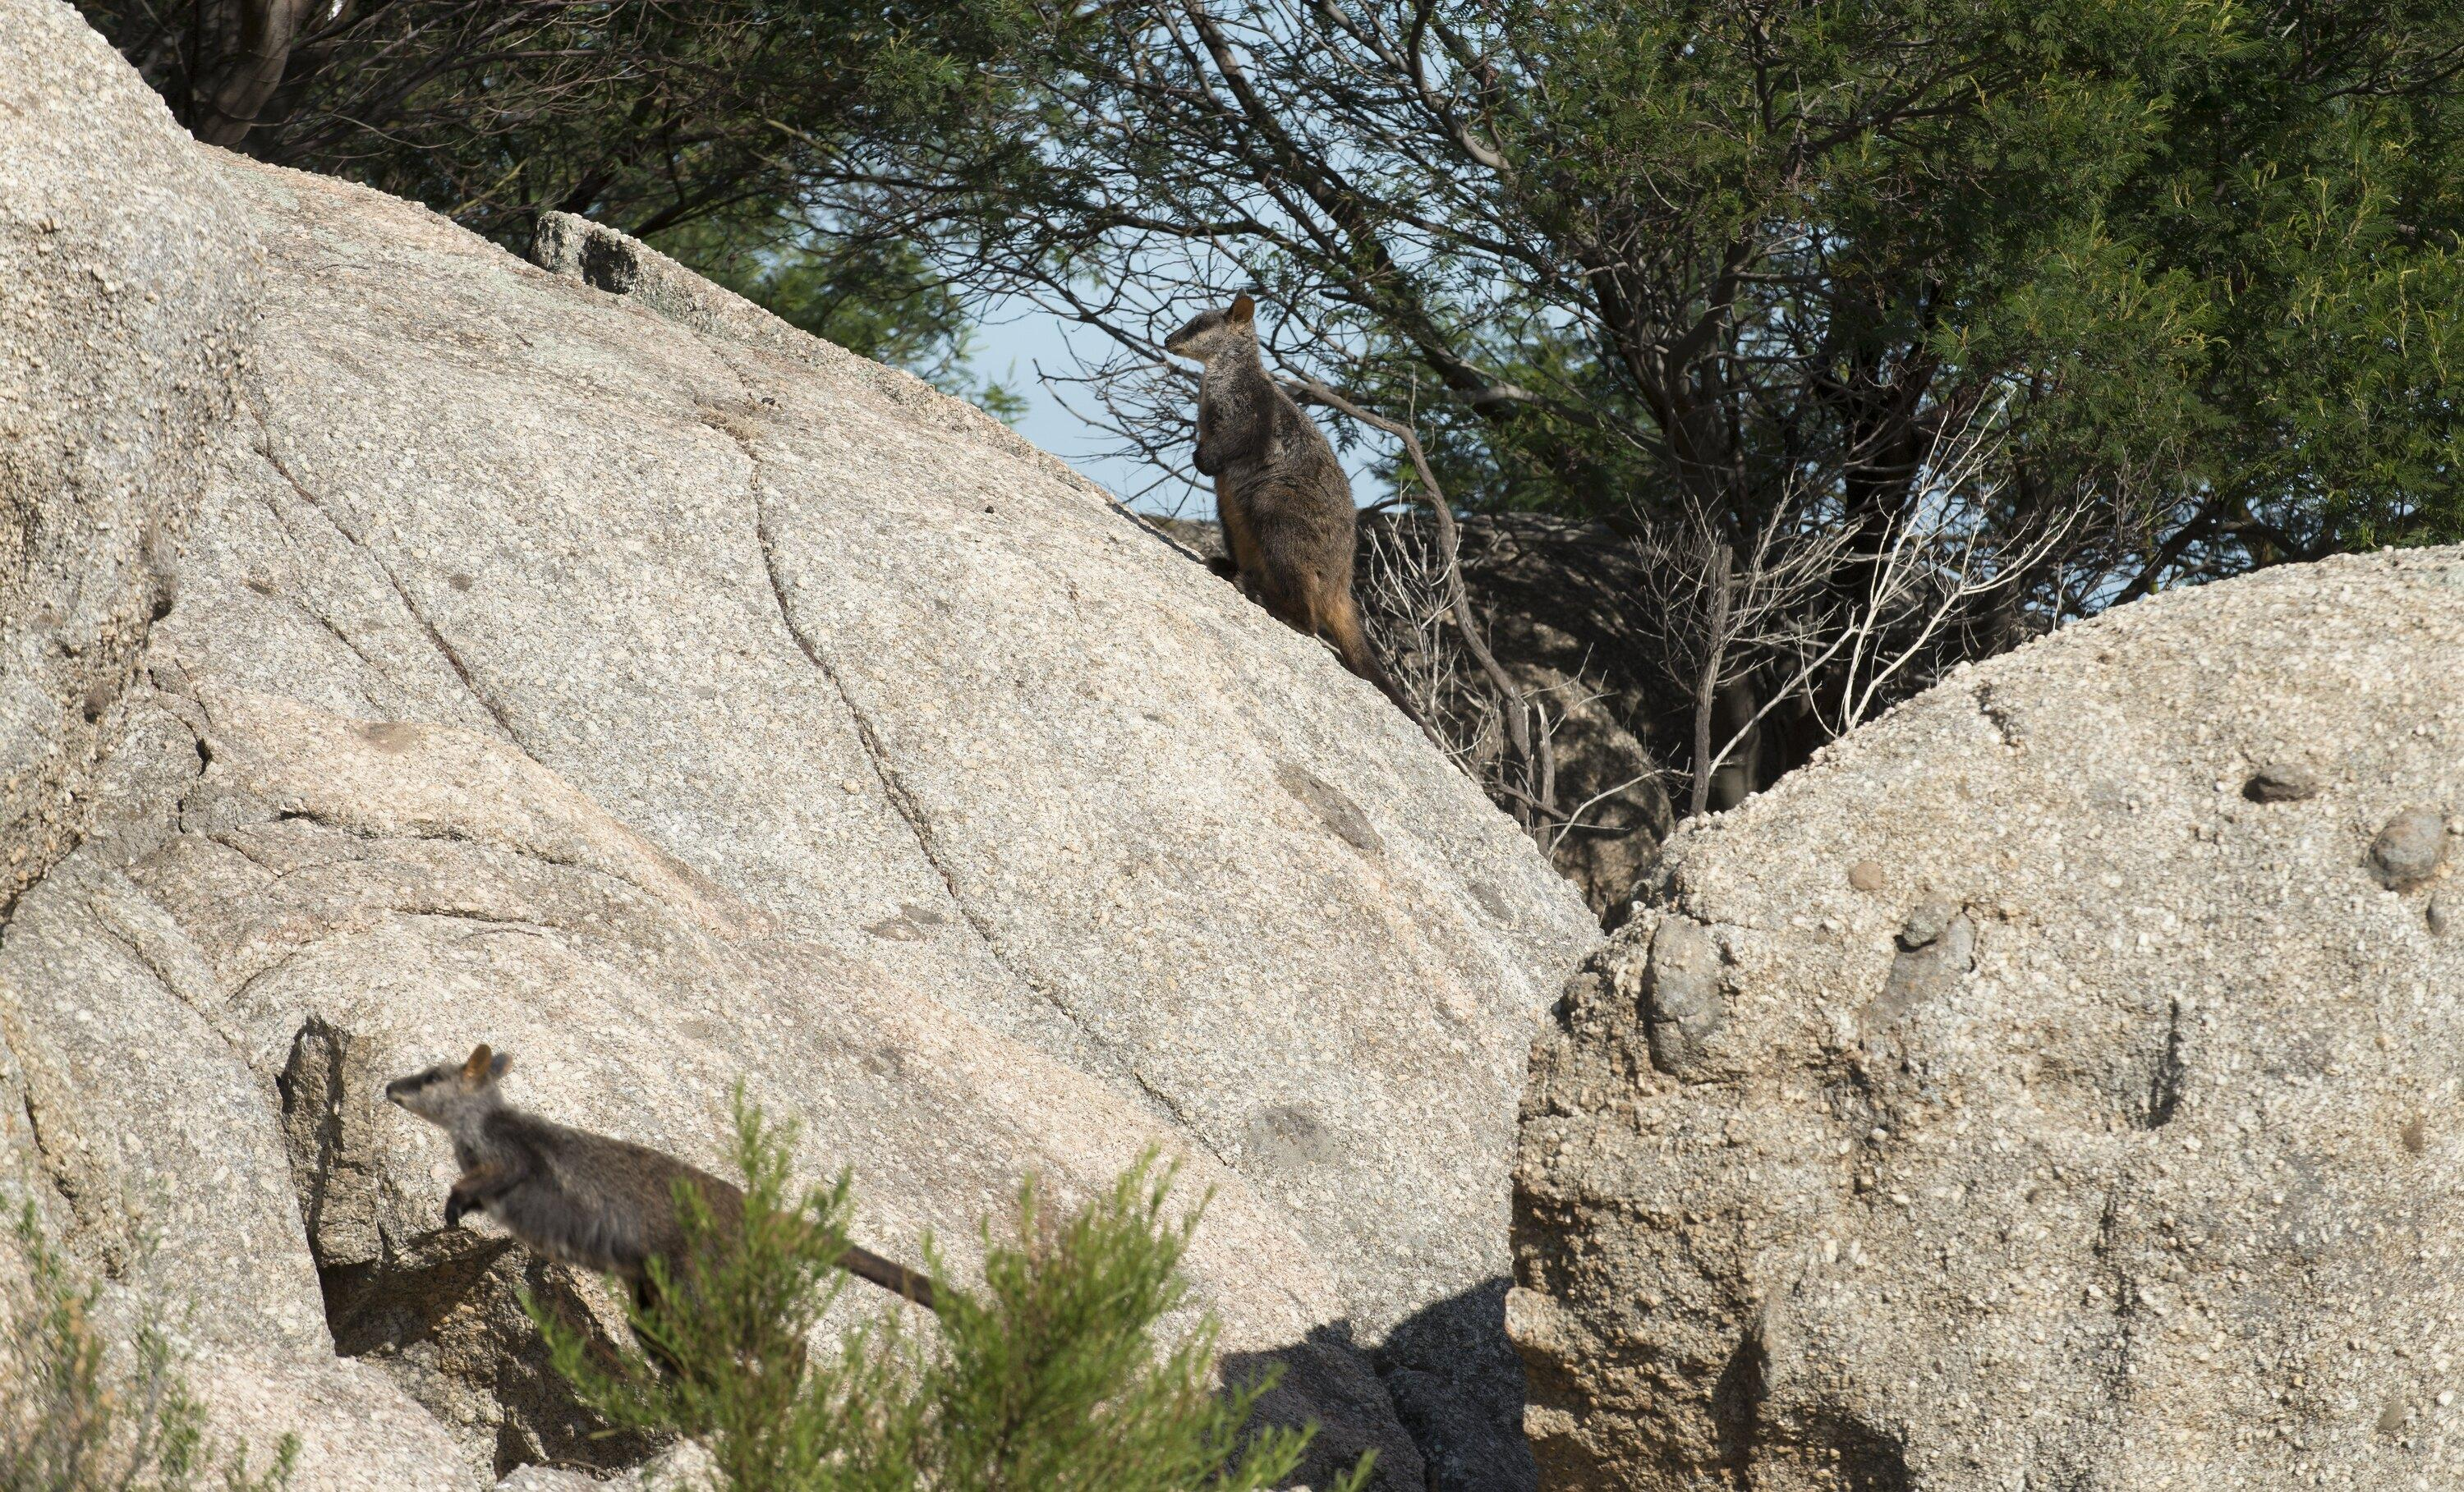Brush-tailed rock-wallaby: (394, 1035, 1010, 1429), (1167, 287, 1463, 790)
